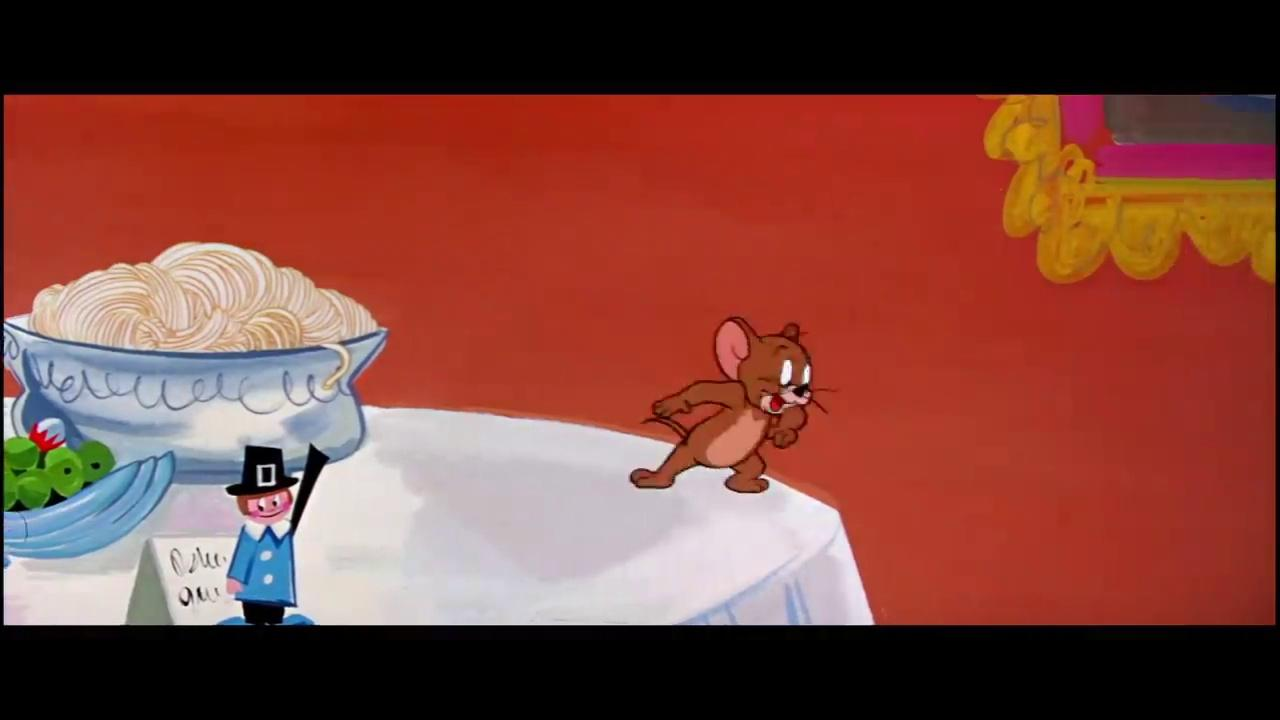Jerry: (627, 313, 838, 494)
